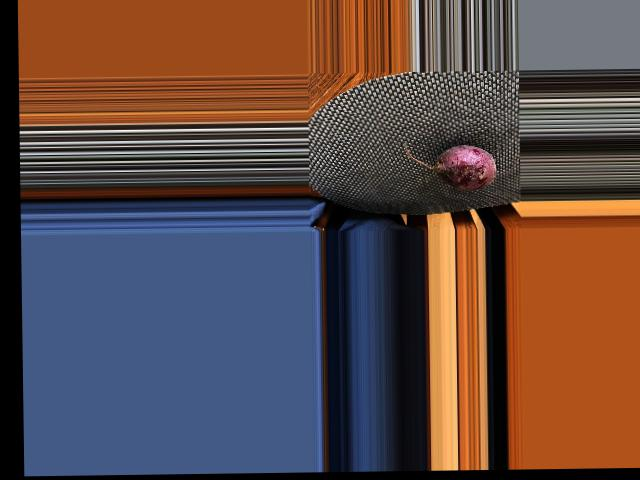beet: (403, 139, 496, 191)
